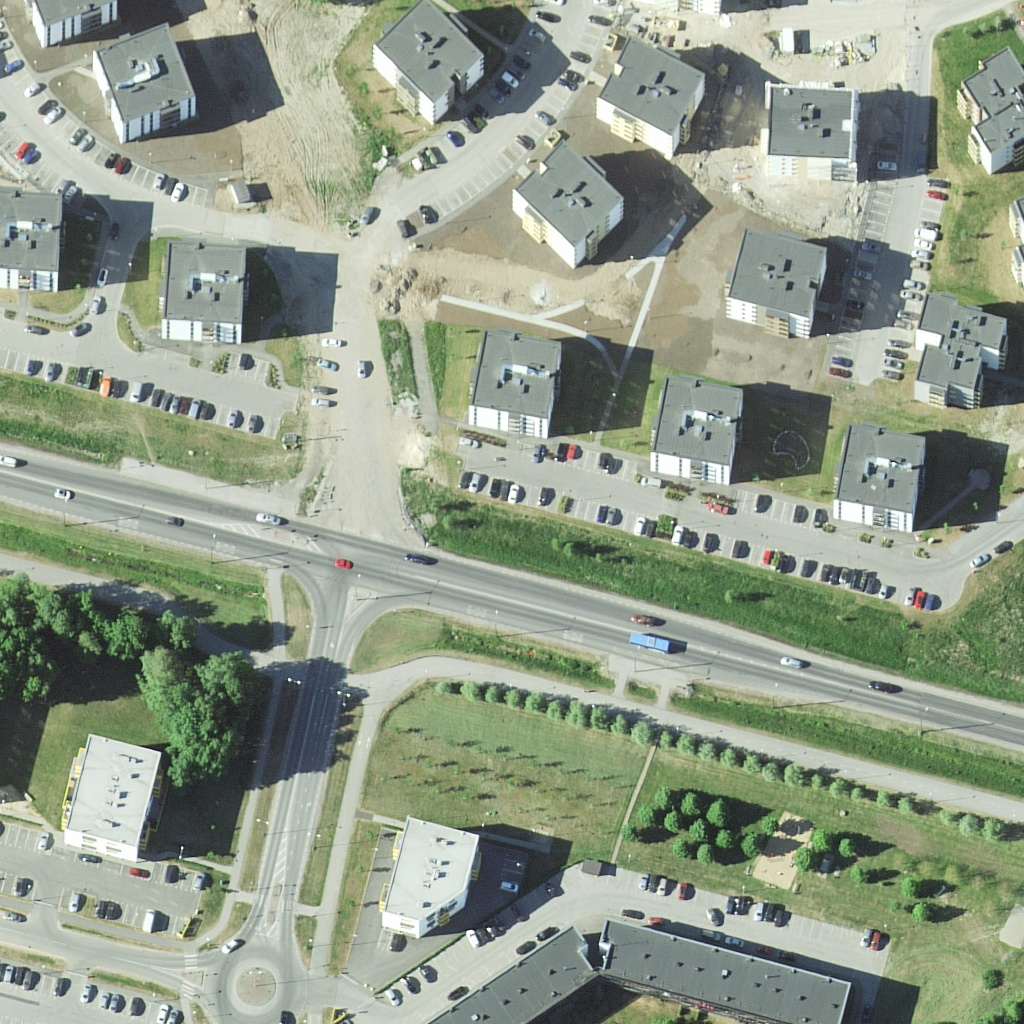building: (601, 916, 853, 1024), (435, 912, 596, 1024), (58, 724, 177, 866), (505, 132, 630, 256), (372, 1, 486, 131), (87, 15, 196, 148), (600, 43, 717, 159), (728, 223, 836, 342), (754, 76, 870, 186), (905, 283, 1003, 409), (158, 233, 261, 344), (383, 816, 477, 936), (654, 373, 745, 486), (465, 324, 562, 428), (841, 418, 927, 531), (954, 48, 1024, 165), (1, 187, 68, 293)
